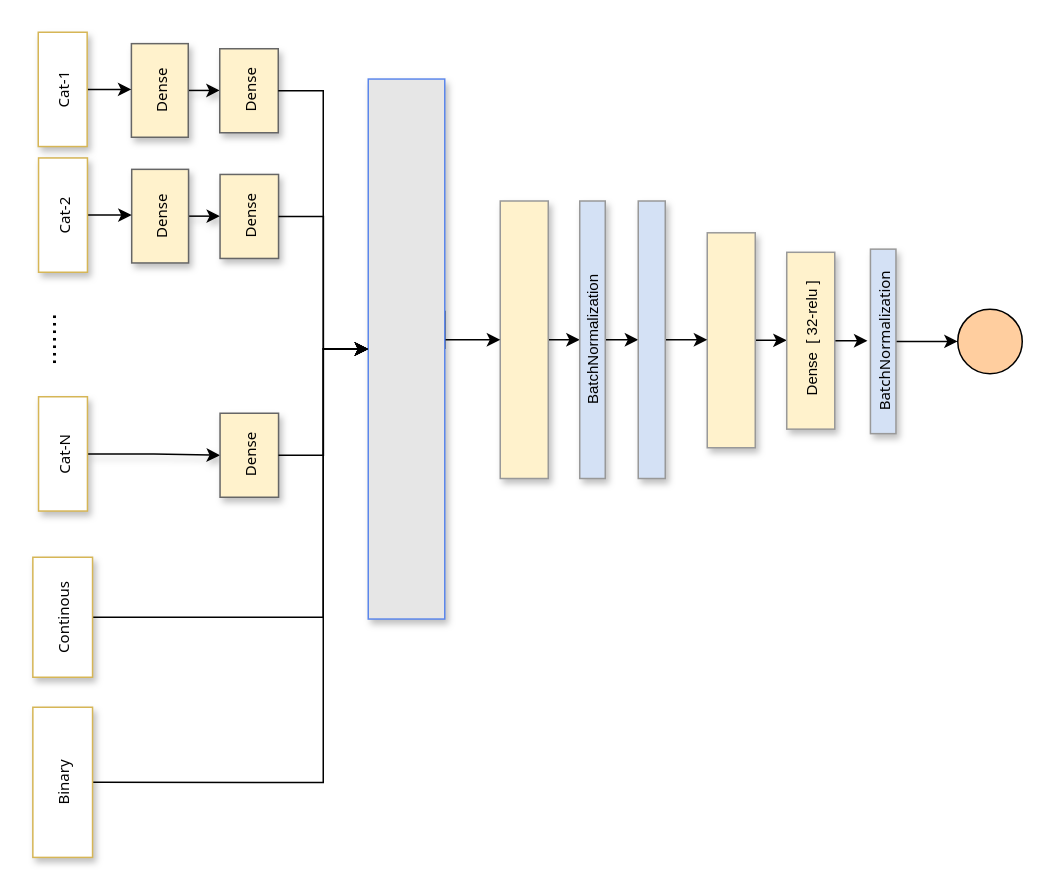
Some shapes in this 1049 by 896 pixel diagram are drawn without their labels. The centre of each missing label's shape, as x and y in pixels:
"Concatatanetion" goes at (407,351).
"Dense [ 64-relu ]" goes at (732,341).
"Dense- [ 100-relu ]" goes at (525,341).
"Dropout (0.2)" goes at (652,341).
"Output" goes at (989,341).
